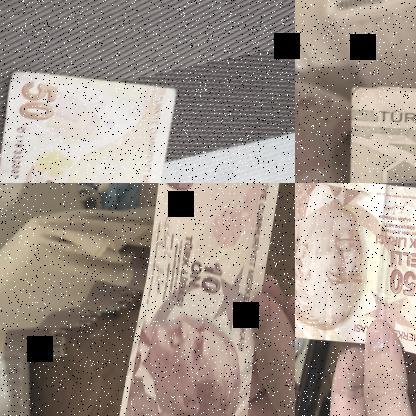5 TL: (0, 67, 178, 182)
